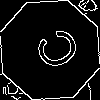C: (25, 25, 82, 78)
